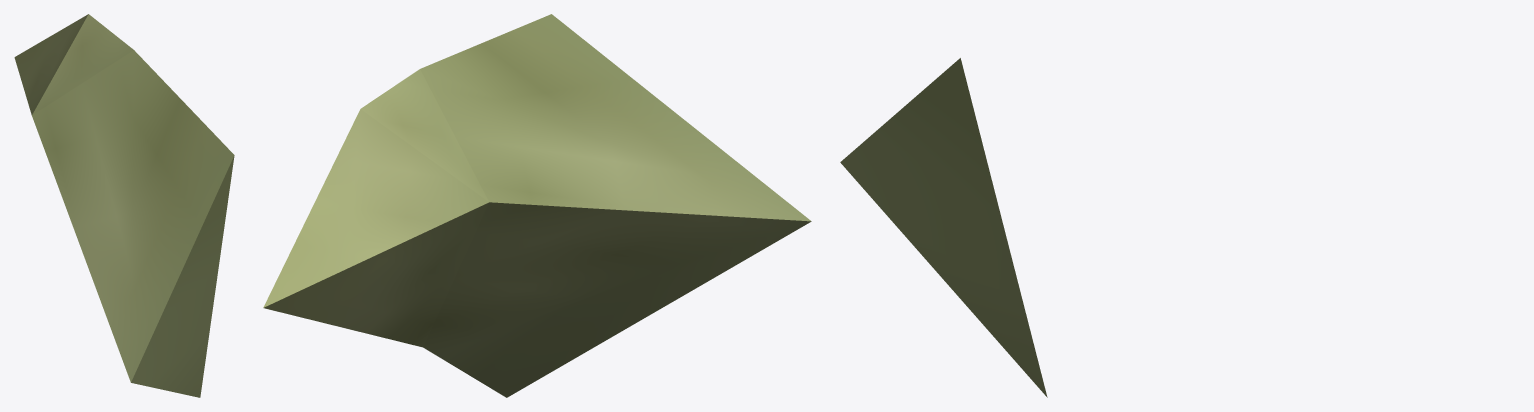
3 views of the same model, side by side, from view 1: azimuth 30°, elevation 25°; view 2: azimuth 150°, elevation 25°; view 3: azimuth 270°, elevation 25° (orthographic). The views are drawn at different scales.
Size of the model in its own units: 0.0641 by 0.1226 by 0.1967.
Materials: 1 (1 with a texture image).
